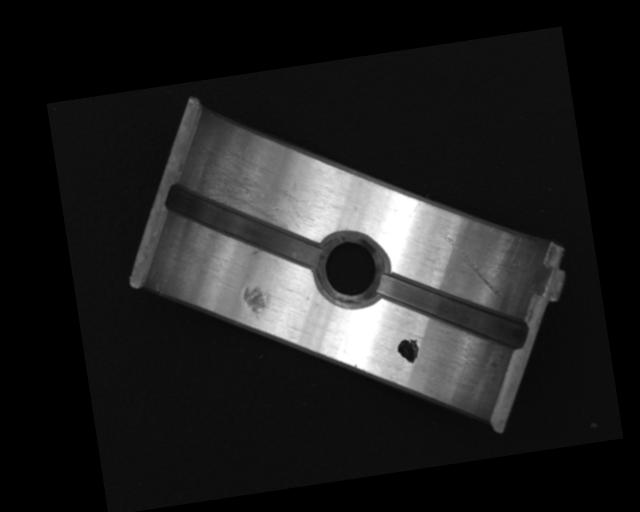blot: (395, 336, 421, 365)
bruise: (241, 283, 270, 322)
gap: (164, 164, 323, 290), (376, 256, 529, 368)
hole: (313, 225, 389, 312)
nick: (442, 225, 500, 305)
scratch: (188, 134, 315, 243)
